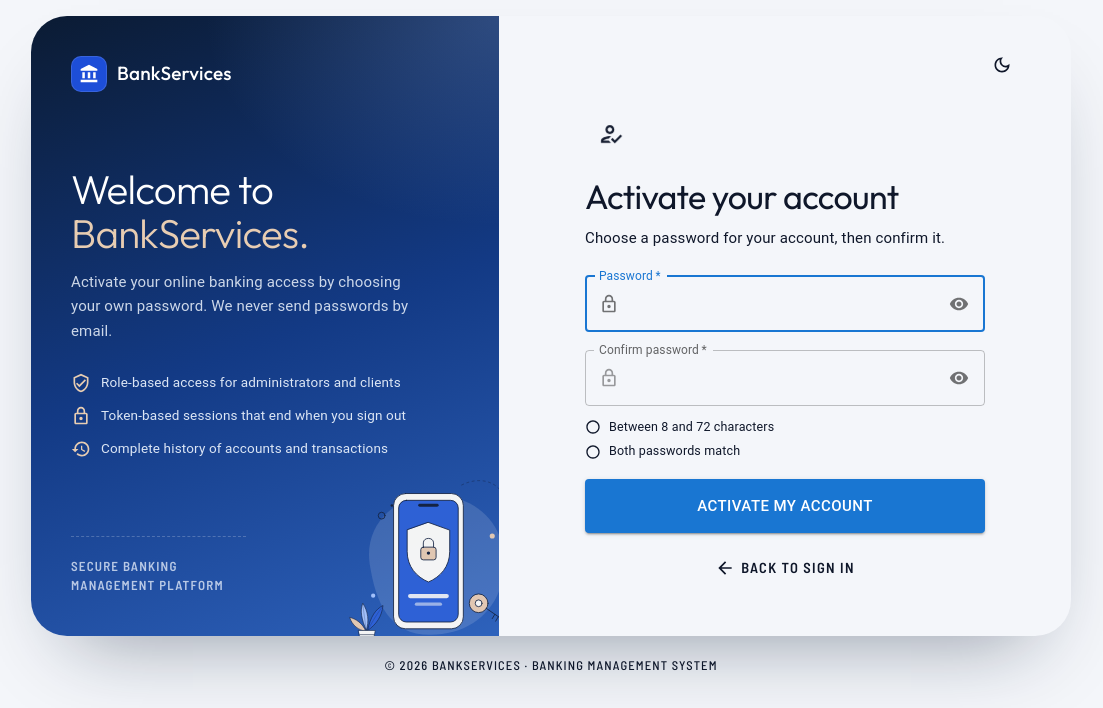
it: ActivateAccount page › sends the token with the password and its confirmation
Type "ElisePass123" into the password field labelled "Password *" at (782, 304), box [627,276,936,332]
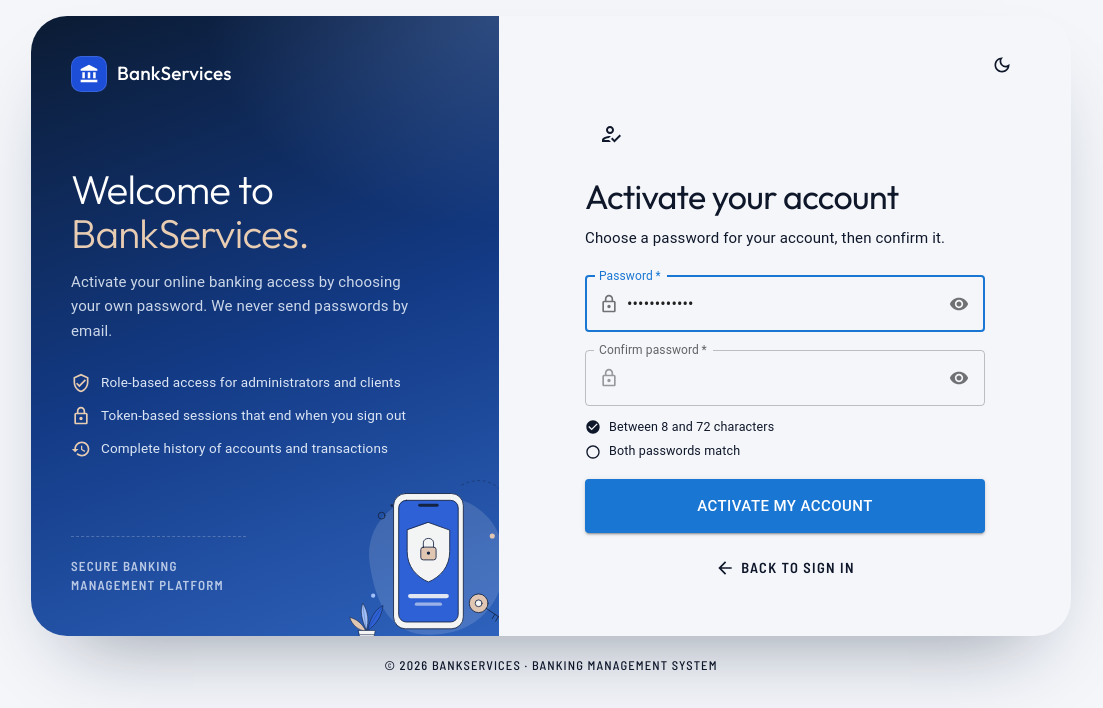
Type "ElisePass123" into the password field labelled "Confirm password *" at (782, 378), box [627,350,936,406]
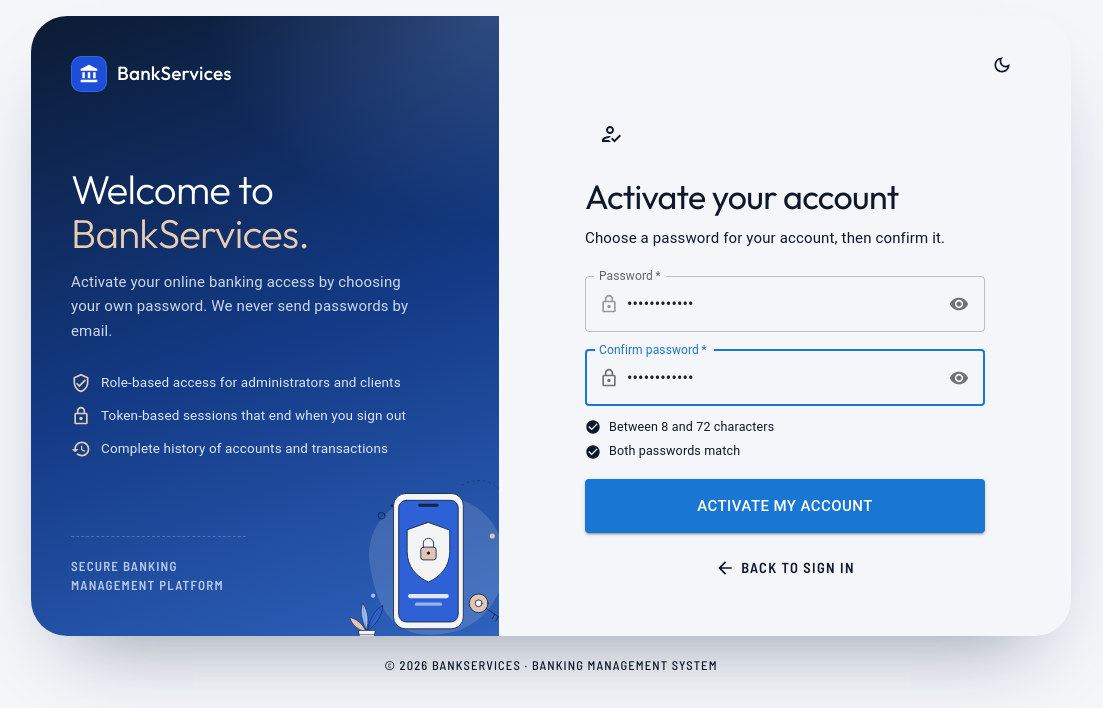
Click the button "Activate my account" at (785, 506), box [585,479,985,533]
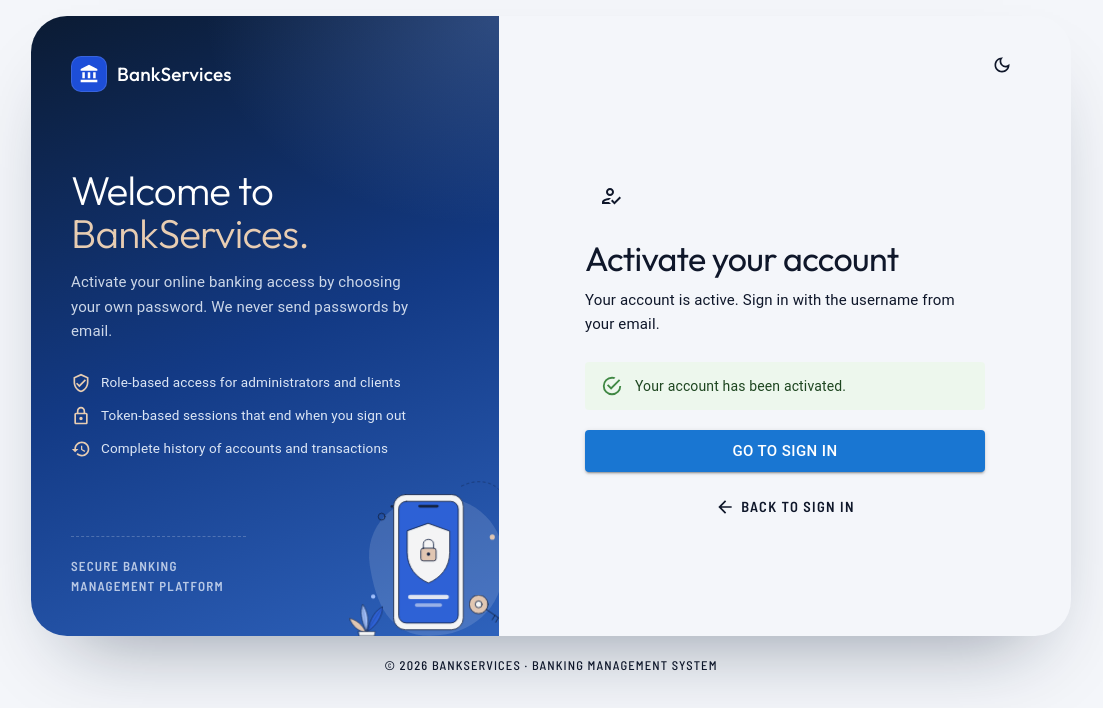
Now the text "Your account has been activated." is shown, box [635,377,846,393]
